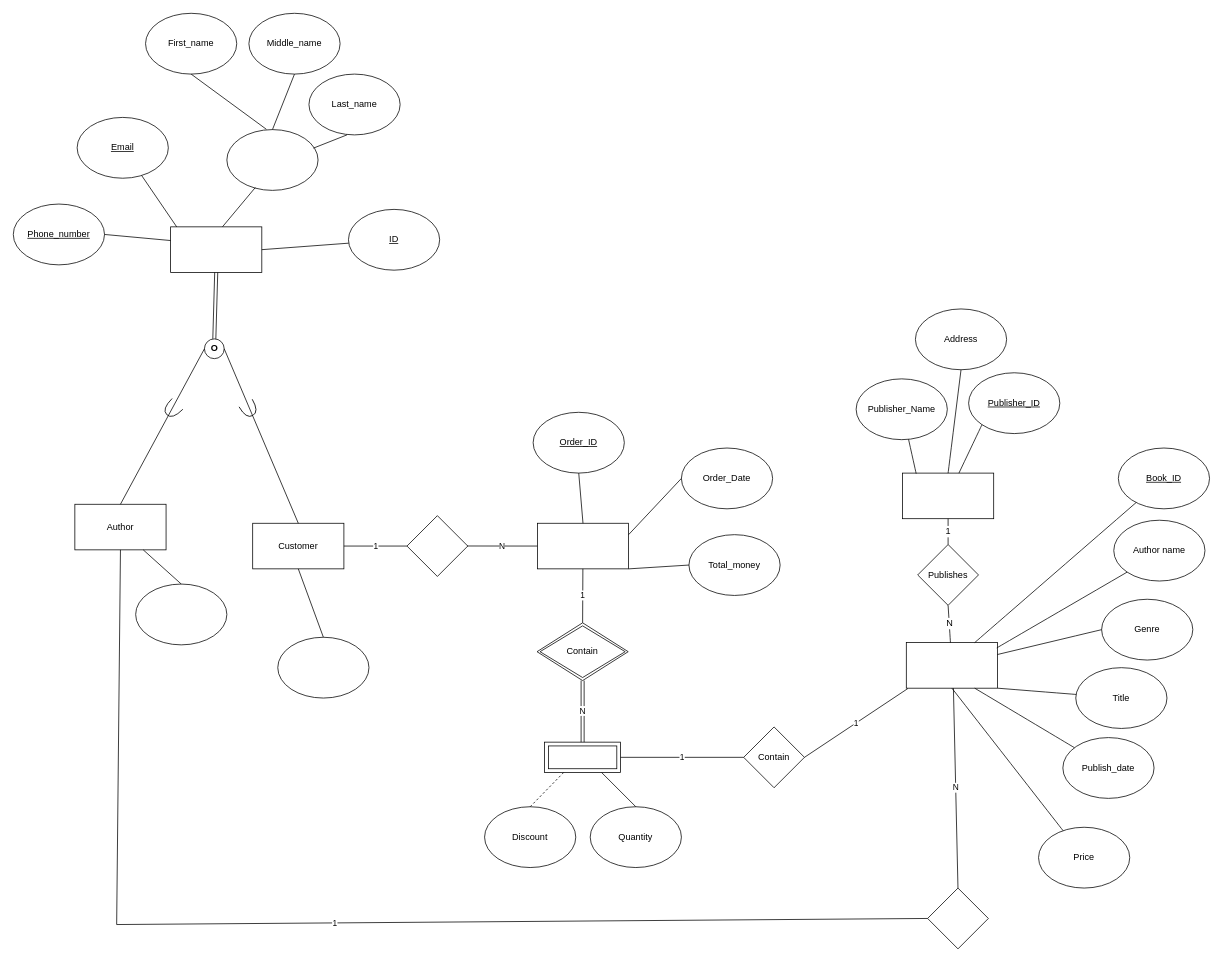
Some shapes in this 1223 by 962 pixel diagram are drawn without their labels. Here are the shapes that lost their labels. From the top down, the centre of each, then its label:
(x=272, y=159): Name
(x=216, y=249): Person
(x=948, y=495): Publisher
(x=437, y=545): Place
(x=583, y=545): Order
(x=181, y=614): Number_of_books
(x=323, y=667): Money_spent
(x=952, y=665): Book
(x=582, y=757): Order_Item
(x=957, y=918): Write
